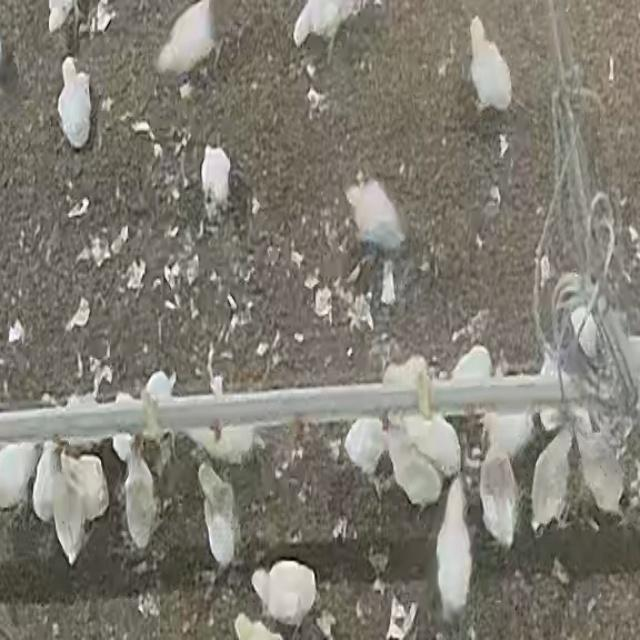chicken: (433, 479, 473, 625), (383, 418, 443, 508), (574, 417, 626, 518), (154, 0, 220, 78), (478, 426, 519, 550), (529, 423, 575, 533), (466, 13, 513, 114), (251, 559, 317, 629), (198, 461, 238, 571), (122, 440, 158, 554), (343, 182, 402, 250), (338, 417, 388, 489), (56, 55, 93, 150), (66, 449, 109, 528), (379, 354, 431, 417), (412, 411, 462, 476), (291, 1, 359, 48), (480, 406, 532, 464), (196, 422, 258, 468), (0, 440, 40, 511), (608, 322, 640, 408), (58, 392, 108, 447), (32, 442, 63, 524), (566, 302, 604, 362), (200, 144, 233, 206), (450, 346, 493, 384), (233, 613, 285, 640), (46, 1, 77, 36), (251, 567, 271, 608)
